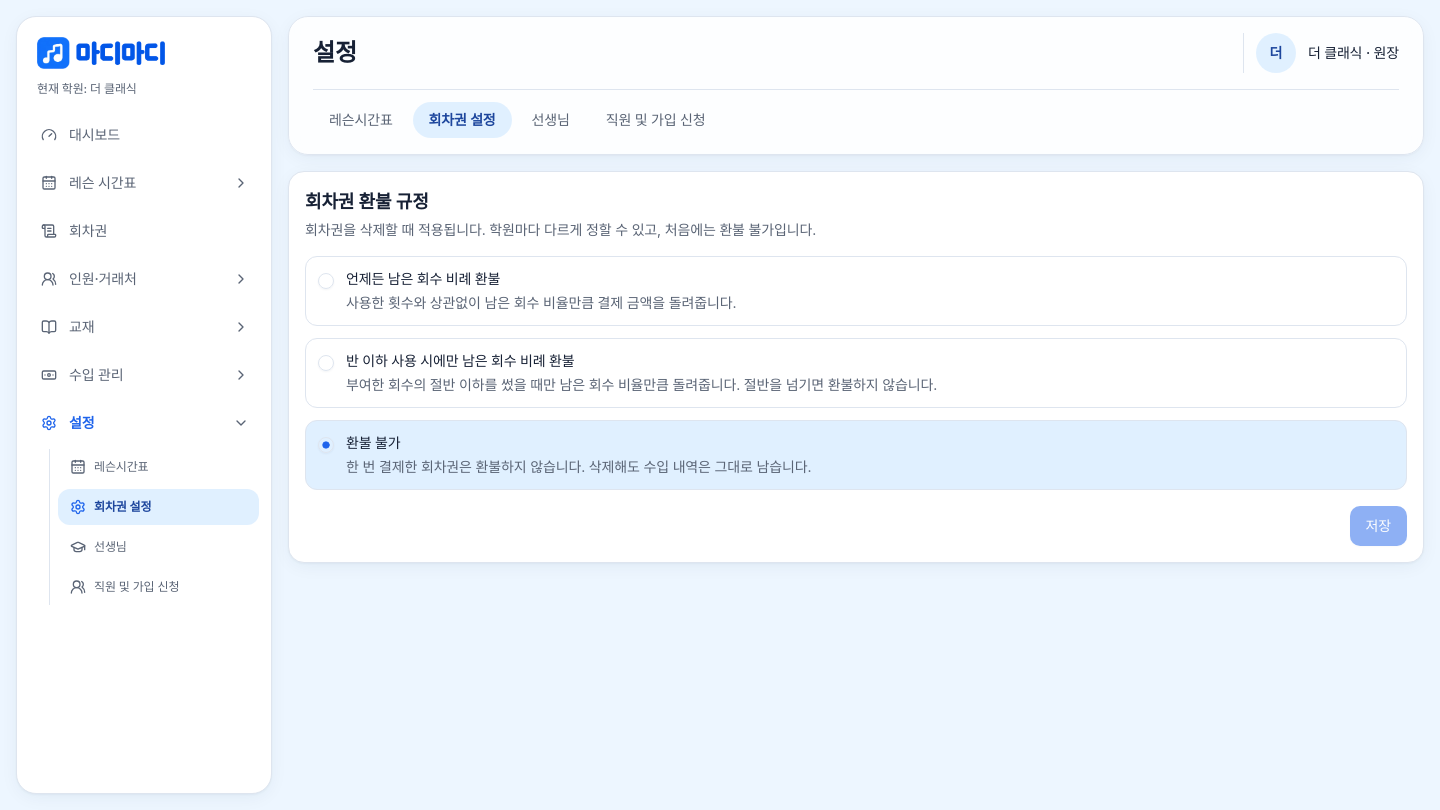
Test: LessonTicketSettingsPage › 규정을 바꿔 저장하면 데모 상태에 반영되어 다시 불러와도 유지된다
The image size is (1440, 810).
Step 1. Click the radio button named "반 이하 사용 시에만 남은 회수 비례 환불" next to "반 이하 사용 시에만 남은 회수 비례 환불" → (326, 363), box 318,355 -> 334,371
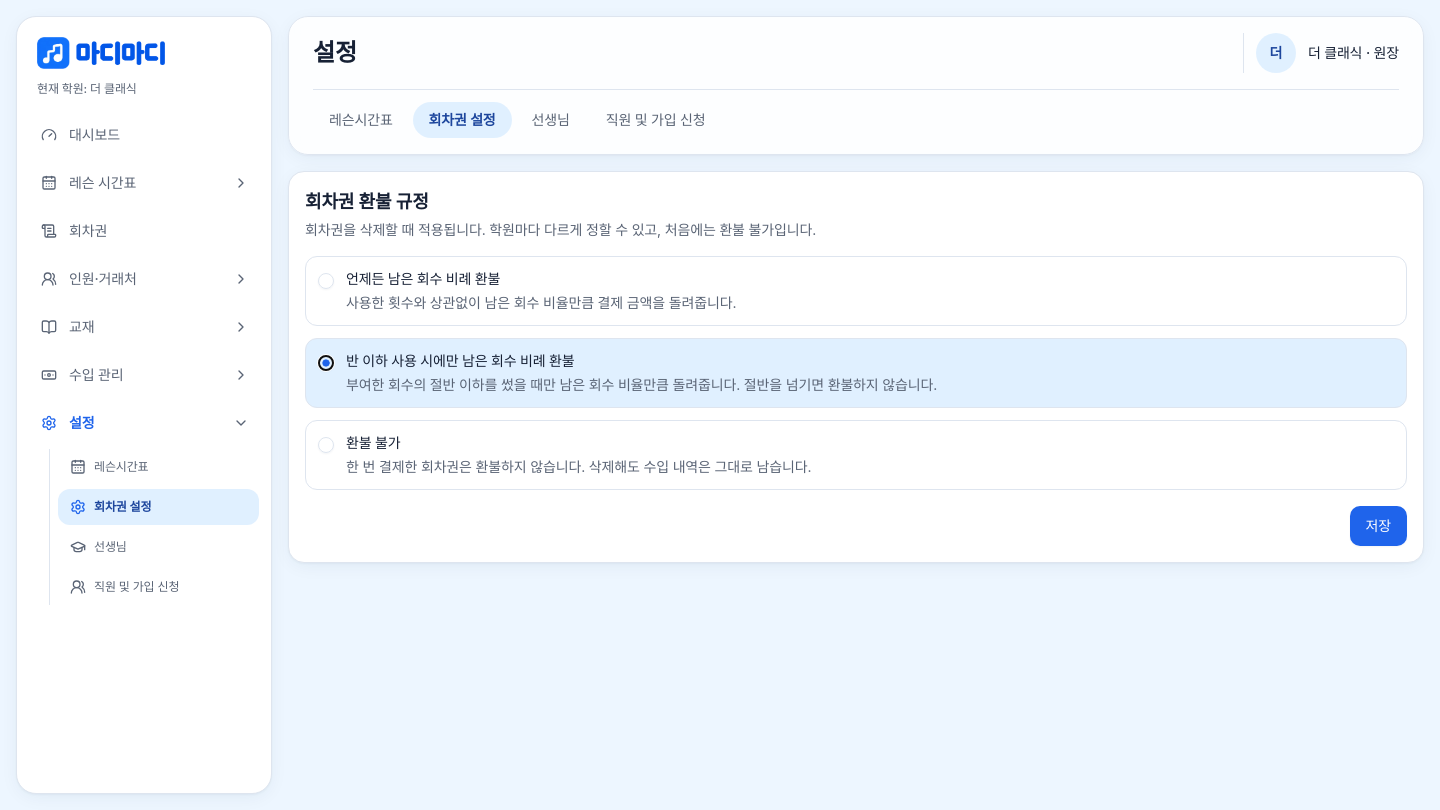
Step 2. Click the button "저장" → (1378, 526), box 1350,506 -> 1407,546
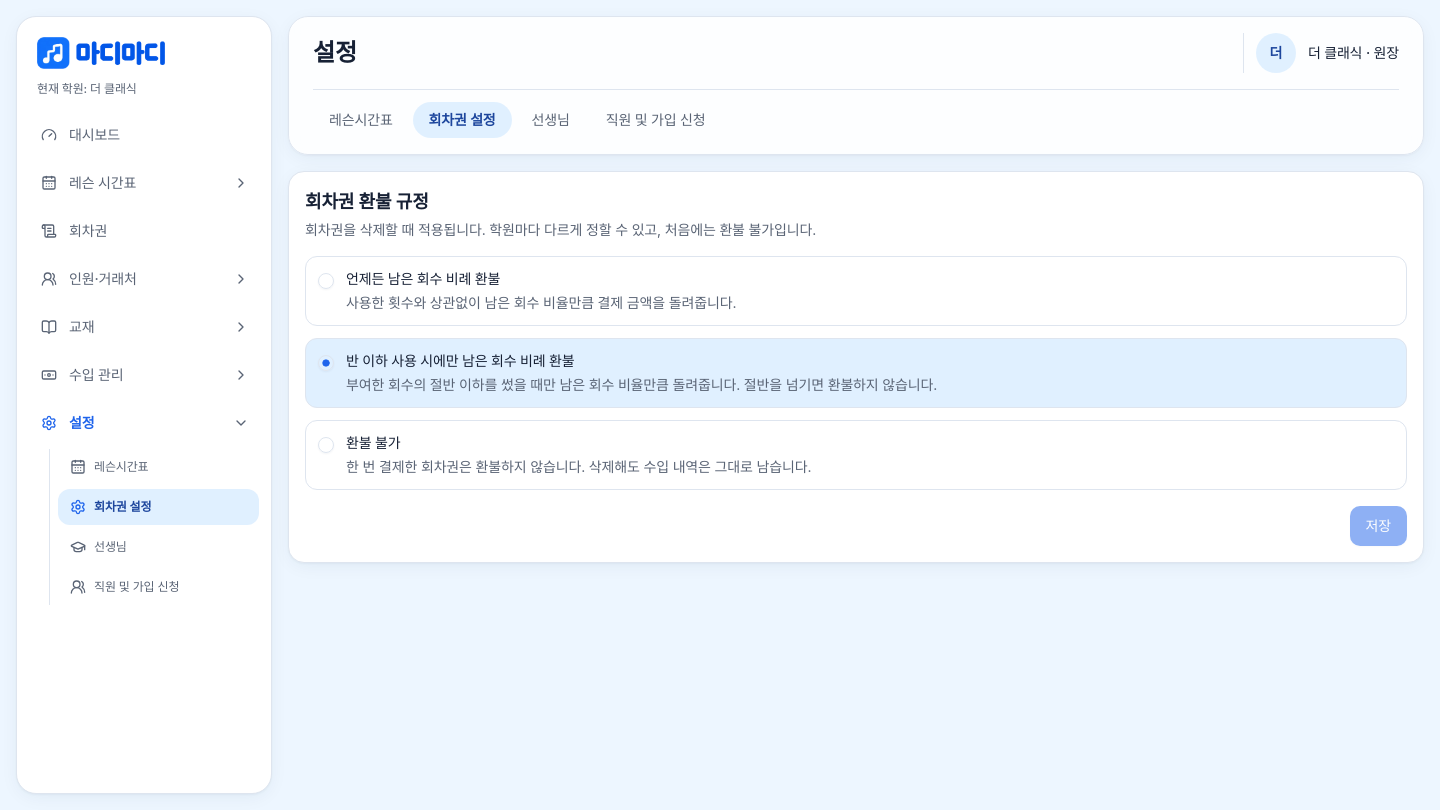
Expected: the radio button named "반 이하 사용 시에만 남은 회수 비례 환불" next to "반 이하 사용 시에만 남은 회수 비례 환불" is checked, 318,355 -> 334,371
Expected: the button "저장" is disabled, 1350,506 -> 1407,546
